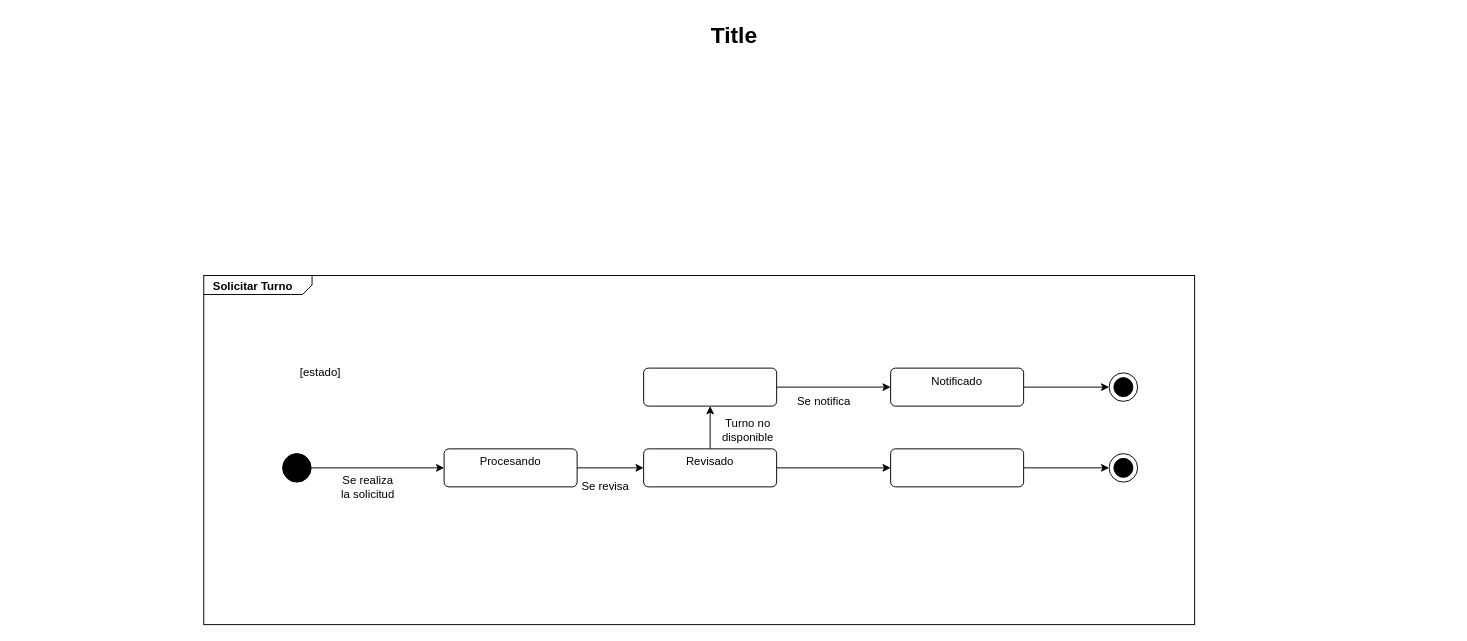
Image size: 1467x641. Some labels were removed from this diagram. The shapes that lost their labels are listed below. From the top down, each one's centre as x and y in pixels, then its label:
At pixel 710 386: "Rechazado".
At pixel 957 467: "Aceptado".
